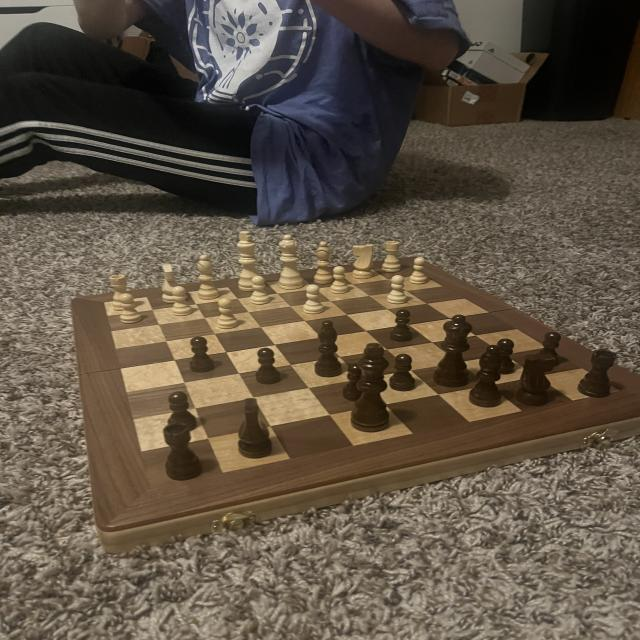bishop: (467, 342, 508, 411), (310, 320, 344, 378)
black-bishop: (349, 342, 394, 434)
black-king: (231, 394, 278, 462), (515, 352, 559, 409)
black-knight: (162, 389, 201, 432), (388, 352, 421, 394), (185, 334, 218, 375), (253, 345, 284, 388), (341, 361, 369, 404), (538, 328, 565, 366), (494, 338, 520, 376), (389, 309, 417, 343)
black-pawn: (430, 312, 475, 391)
black-queen: (158, 422, 208, 484), (576, 347, 621, 398)
black-rook: (193, 252, 223, 302), (312, 240, 338, 286)
white-bishop: (232, 229, 264, 295)
white-king: (348, 241, 380, 281), (156, 262, 184, 306)
white-knight: (115, 290, 149, 327), (212, 295, 242, 330), (384, 272, 412, 307), (167, 284, 193, 319), (300, 284, 329, 315), (248, 274, 276, 306), (327, 264, 354, 296), (408, 254, 432, 286)
white-pawn: (272, 232, 304, 292)
white-queen: (104, 272, 140, 314), (381, 238, 408, 274)
